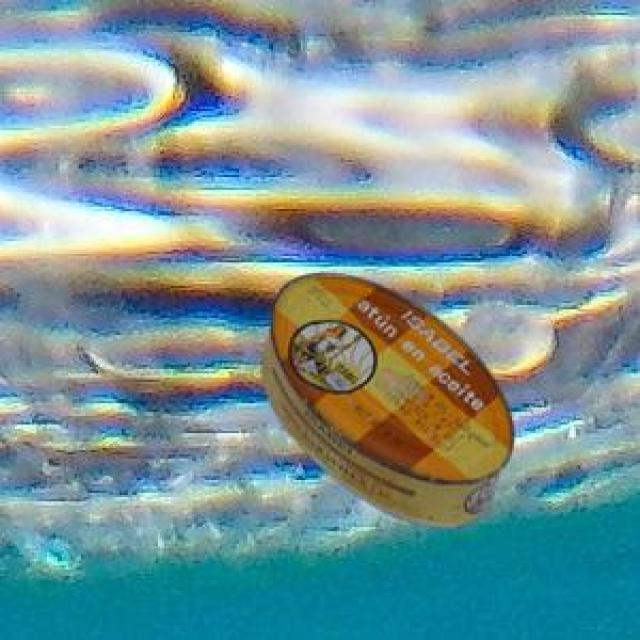Can: (259, 270, 509, 526)
